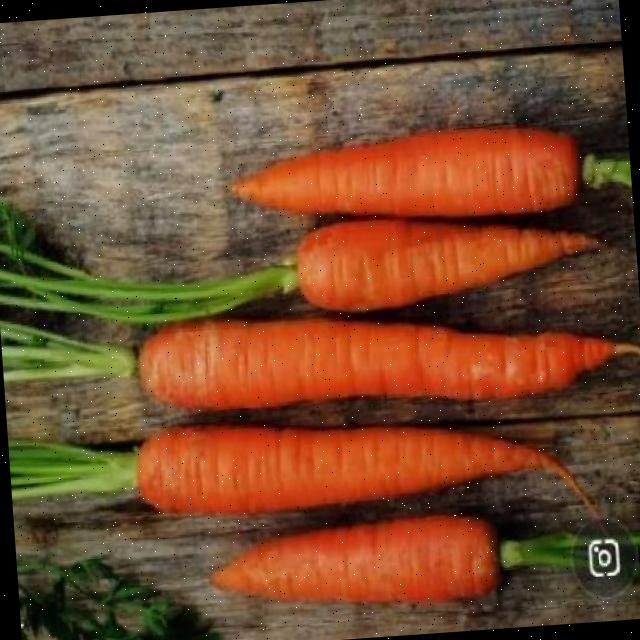carrot: (0, 217, 600, 323), (0, 318, 640, 408), (8, 425, 598, 514), (232, 126, 631, 215), (210, 513, 590, 601)
